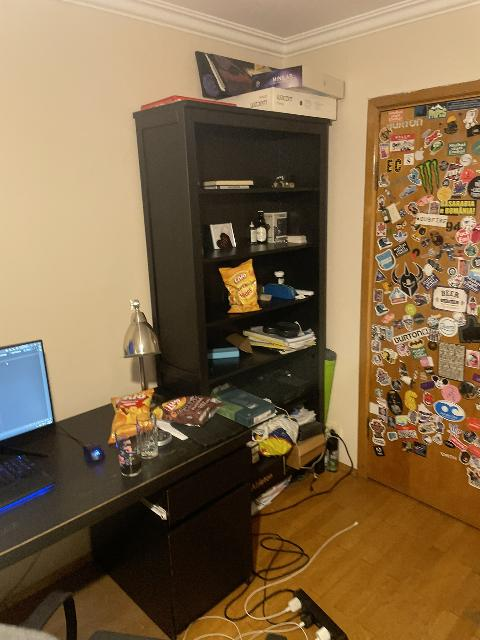Chio Cascaval 125g: (108, 389, 157, 444)
Chio Hula Hoops Cheese 70g: (218, 259, 261, 313)
Lays Beef Grilled Ribs 125g: (154, 394, 221, 427)
